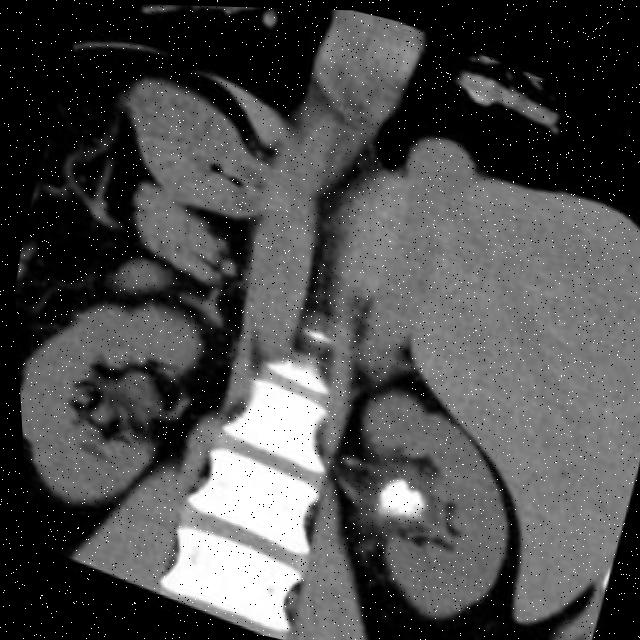Tas_Var: (353, 462, 434, 531), (391, 501, 401, 512), (406, 503, 414, 512)
